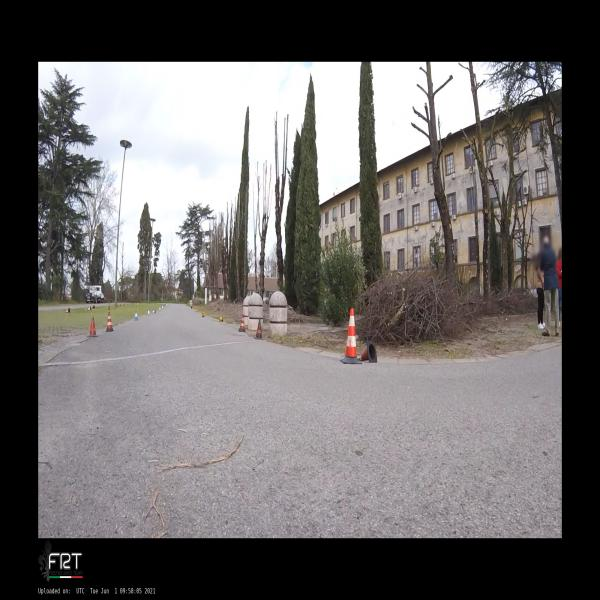blue_cone: (134, 311, 139, 320), (152, 309, 156, 314), (147, 310, 150, 316)
large_orange_cone: (340, 308, 362, 364), (254, 319, 264, 340), (105, 312, 114, 332), (238, 314, 246, 332)
orange_cone: (66, 308, 70, 313), (88, 306, 92, 310)
unknown_cone: (358, 342, 378, 362), (87, 316, 98, 337), (108, 304, 110, 310), (92, 306, 95, 308)
yellow_cone: (219, 316, 225, 322), (202, 313, 205, 317), (202, 310, 204, 315)
